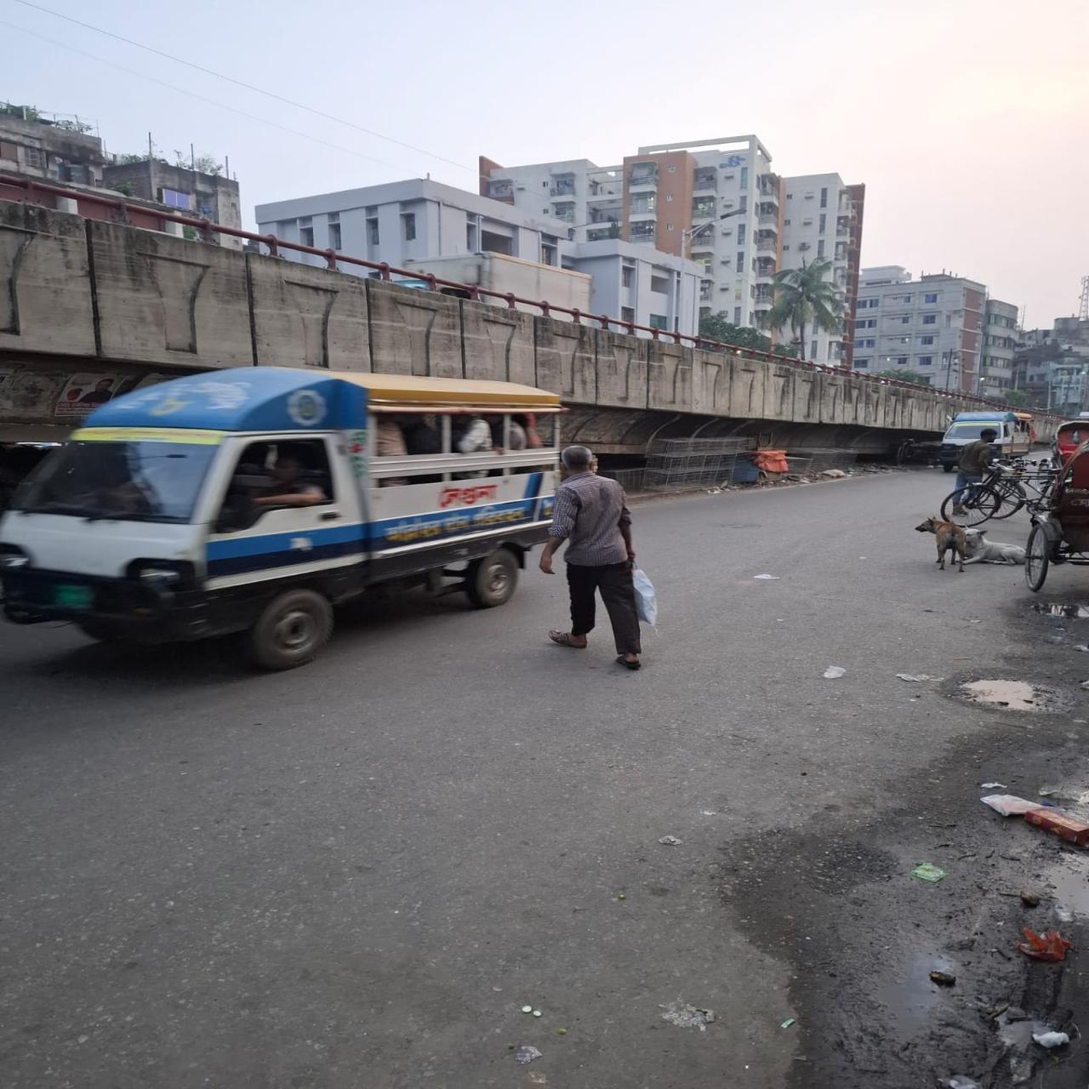person: (532, 445, 648, 669)
